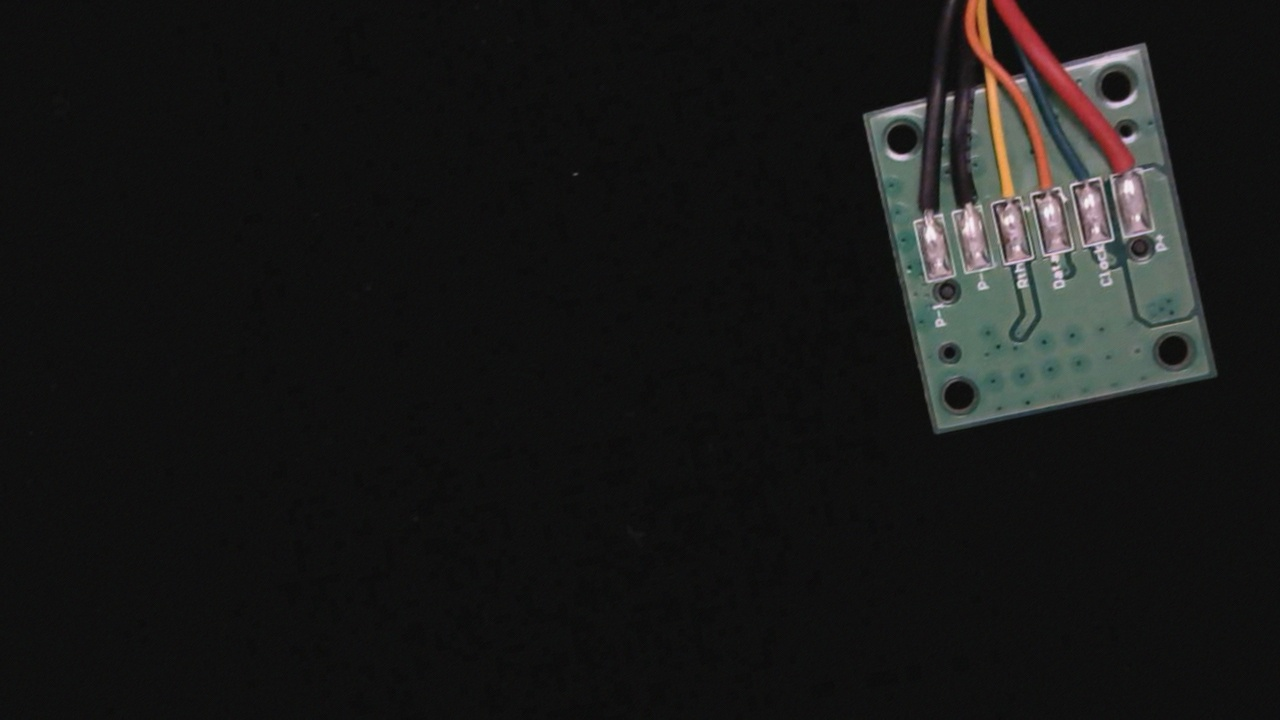Black: (942, 159, 985, 227)
Black1: (902, 164, 947, 236)
Green: (1062, 138, 1106, 201)
Orange: (1024, 144, 1066, 210)
Red: (1099, 116, 1147, 192)
Yellow: (980, 151, 1025, 218)
